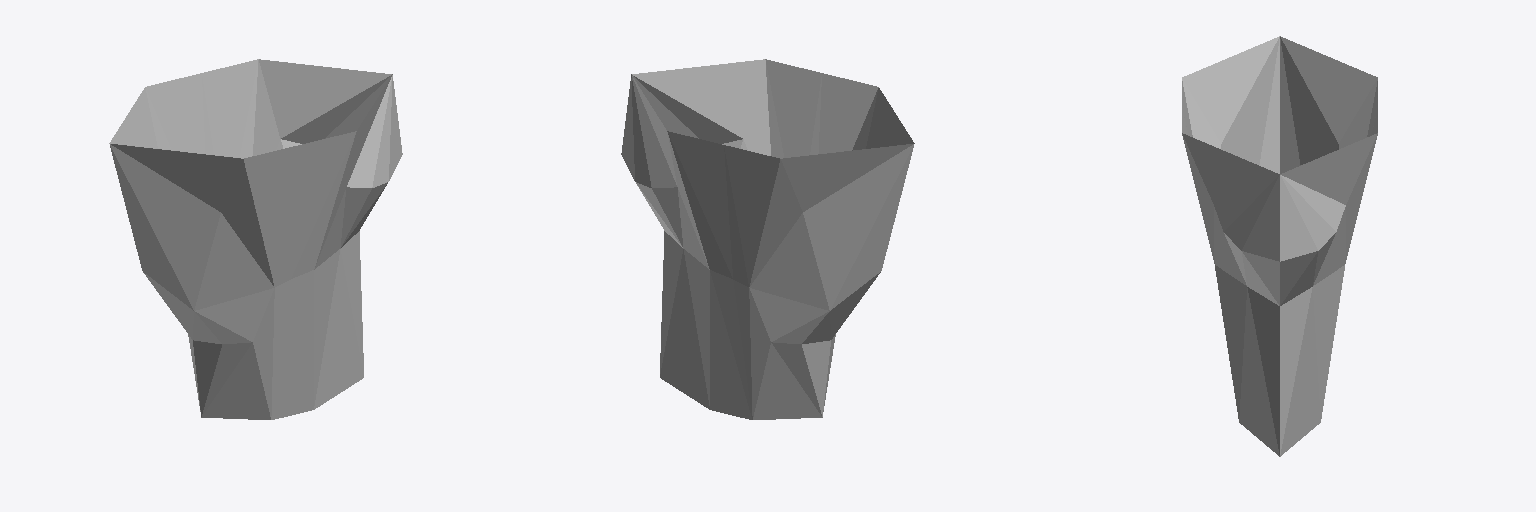
Rendered from rhodium_arm_mid.obj.
3 views of the same model, side by side, from view 1: azimuth 30°, elevation 25°; view 2: azimuth 150°, elevation 25°; view 3: azimuth 270°, elevation 25° (orthographic).
Visible parts, largest first — view 1: RhodiumArmMid; view 2: RhodiumArmMid; view 3: RhodiumArmMid.
Part boxes in pixels (left/top/right/bottom): RhodiumArmMid: left=109, top=59, right=402, bottom=419; RhodiumArmMid: left=621, top=59, right=914, bottom=419; RhodiumArmMid: left=1182, top=36, right=1377, bottom=456.
Size of the model in its own units: 2.07 by 2 by 1.2.